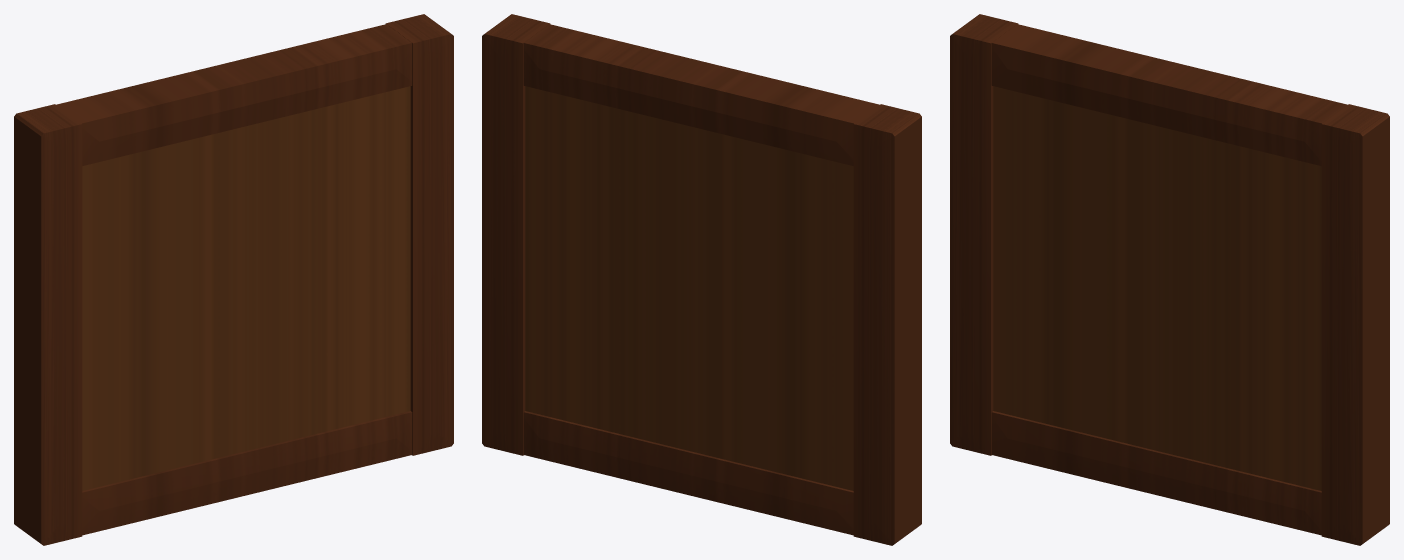
File: Wall_Wood.fbx
3 renders of one model, left to right at view 1: azimuth 30°, elevation 25°; view 2: azimuth 150°, elevation 25°; view 3: azimuth 330°, elevation 25°, orthographic.
Visible parts, largest first — view 1: Wall_Wood; view 2: Wall_Wood; view 3: Wall_Wood.
Boxes of the visible parts, box(x1,y1,x2,y2) form: Wall_Wood: box(14, 14, 453, 545); Wall_Wood: box(482, 14, 921, 545); Wall_Wood: box(950, 14, 1389, 545).
Bounding box in the file's own units: 212 × 202 × 26.17.
